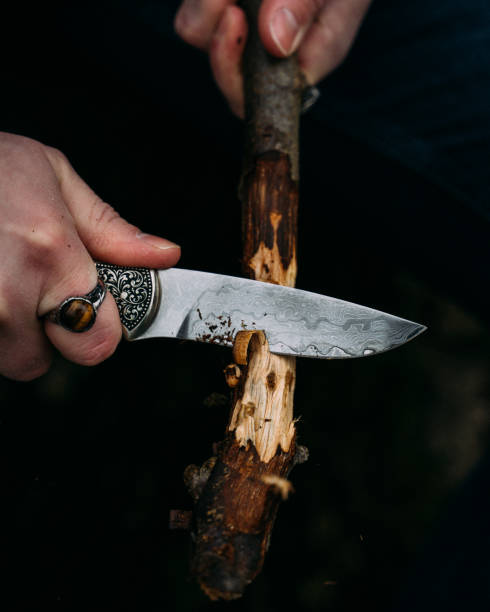knife: (89, 258, 431, 363)
